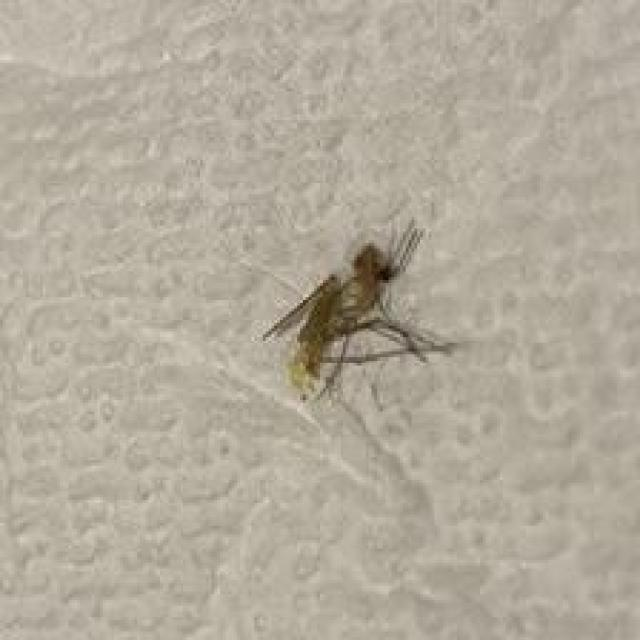Culex: (260, 216, 454, 407)
